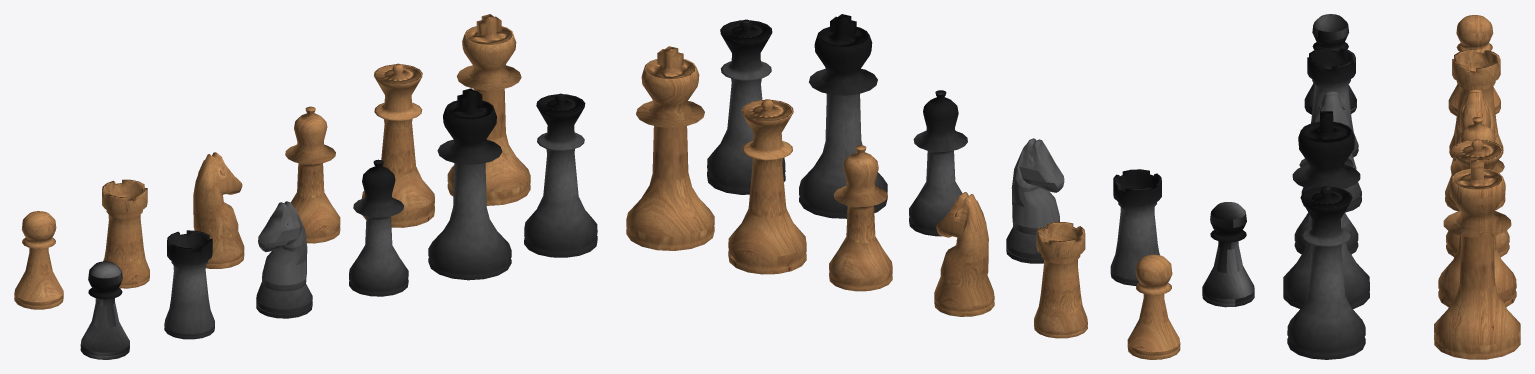
The model's file is chess_figures.glb.
3 renders of one model, left to right at view 1: azimuth 30°, elevation 25°; view 2: azimuth 150°, elevation 25°; view 3: azimuth 270°, elevation 25°, orthographic. The views are drawn at different scales.
Parts seen in each view (by area): view 1: Cylinder, Cylinder.001, Cylinder.016, Cylinder.017, Cylinder.002, Cylinder.003, Cylinder.004, Cylinder.022, Cylinder.023, Cylinder.024, Cylinder.005, Cylinder.031; view 2: Cylinder.016, Cylinder, Cylinder.017, Cylinder.001, Cylinder.022, Cylinder.023, Cylinder.024, Cylinder.002, Cylinder.003, Cylinder.004, Cylinder.031, Cylinder.005; view 3: Cylinder.016, Cylinder.001, Cylinder, Cylinder.017, Cylinder.004, Cylinder.024, Cylinder.031, Cylinder.005, Cylinder.023, Cylinder.022, Cylinder.003, Cylinder.002.
Part boxes in pixels (<box>): Cylinder: <box>428,88,511,280</box>; Cylinder.001: <box>524,93,597,257</box>; Cylinder.016: <box>447,14,530,205</box>; Cylinder.017: <box>361,63,434,227</box>; Cylinder.002: <box>349,159,408,296</box>; Cylinder.003: <box>256,201,312,318</box>; Cylinder.004: <box>164,230,214,339</box>; Cylinder.022: <box>285,106,340,243</box>; Cylinder.023: <box>193,152,244,268</box>; Cylinder.024: <box>102,179,149,288</box>; Cylinder.005: <box>80,261,129,359</box>; Cylinder.031: <box>14,211,63,309</box>; Cylinder.016: <box>626,46,714,250</box>; Cylinder: <box>799,14,887,218</box>; Cylinder.017: <box>728,99,806,274</box>; Cylinder.001: <box>707,19,785,194</box>; Cylinder.022: <box>829,145,892,291</box>; Cylinder.023: <box>934,192,994,316</box>; Cylinder.024: <box>1034,222,1087,338</box>; Cylinder.002: <box>909,90,967,236</box>; Cylinder.003: <box>1006,138,1064,263</box>; Cylinder.004: <box>1110,169,1161,285</box>; Cylinder.031: <box>1127,254,1180,359</box>; Cylinder.005: <box>1202,202,1254,307</box>; Cylinder.016: <box>1434,158,1520,359</box>; Cylinder.001: <box>1287,186,1365,359</box>; Cylinder: <box>1283,111,1369,308</box>; Cylinder.017: <box>1438,139,1516,307</box>; Cylinder.004: <box>1307,47,1358,157</box>; Cylinder.024: <box>1449,49,1503,157</box>; Cylinder.031: <box>1448,15,1500,115</box>; Cylinder.005: <box>1304,14,1356,114</box>; Cylinder.023: <box>1445,89,1505,211</box>; Cylinder.022: <box>1446,117,1509,257</box>; Cylinder.003: <box>1301,91,1361,212</box>; Cylinder.002: <box>1294,158,1358,254</box>.
Size of the model in its own units: 63.54 by 20.57 by 24.24.
2 materials, 2 textured.
